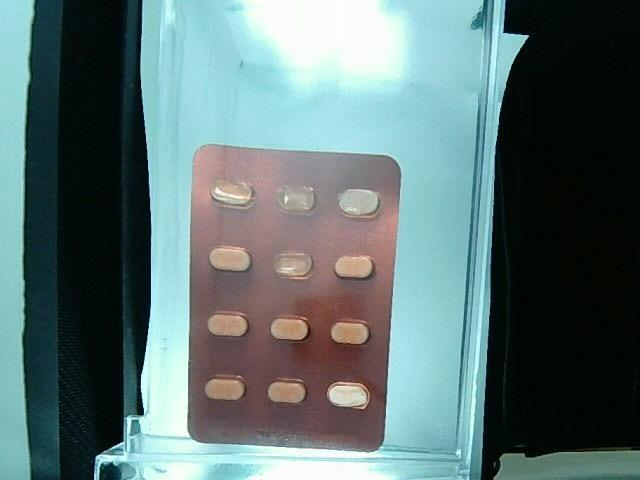Light Front: (185, 144, 403, 455)
No Pill Front: (210, 179, 256, 208), (338, 189, 380, 218), (276, 185, 314, 215), (328, 381, 370, 407), (274, 253, 312, 276)
Pill Front: (208, 311, 249, 336), (204, 375, 245, 400), (209, 246, 251, 270), (270, 316, 310, 340), (330, 320, 370, 344), (268, 379, 306, 403), (335, 256, 373, 277)
